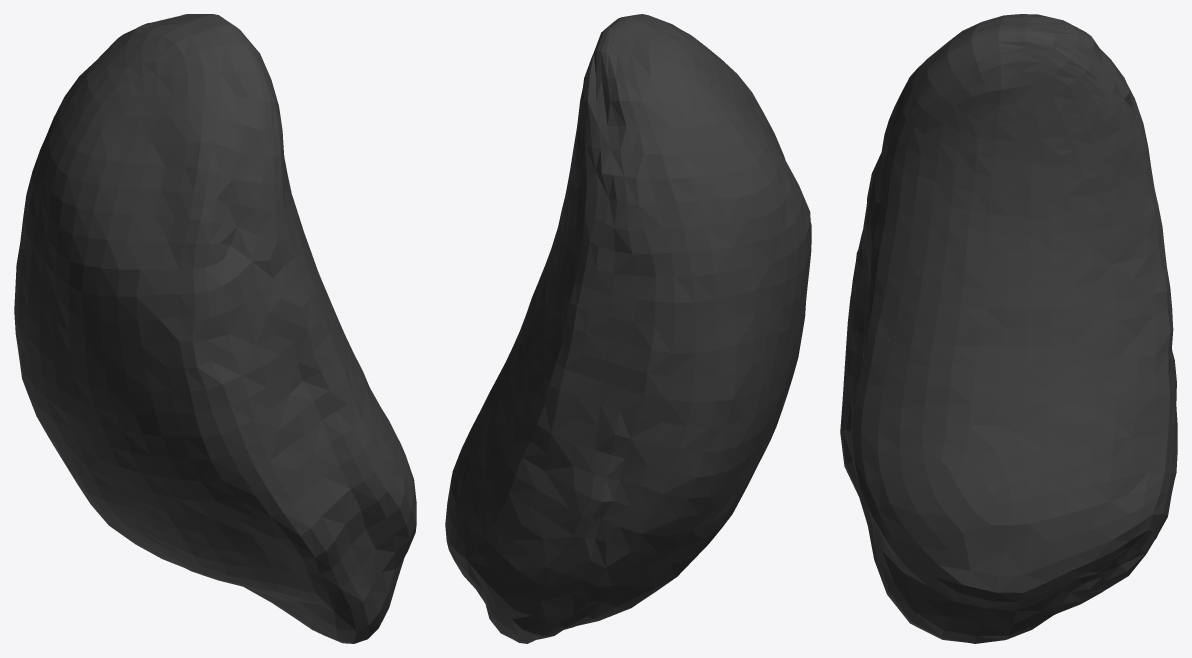
Rendered from patella_L.glb.
3 views of the same model, side by side, from view 1: azimuth 30°, elevation 25°; view 2: azimuth 150°, elevation 25°; view 3: azimuth 270°, elevation 25° (orthographic). The views are drawn at different scales.
Visible parts, largest first — view 1: patella_L; view 2: patella_L; view 3: patella_L.
Boxes of the visible parts, x1=… form: patella_L: x1=14, y1=14, x2=416, y2=643; patella_L: x1=445, y1=14, x2=811, y2=643; patella_L: x1=840, y1=14, x2=1177, y2=643.
Size of the model in its own units: 0.0182 by 0.0328 by 0.0176.
1 material, 1 textured.
